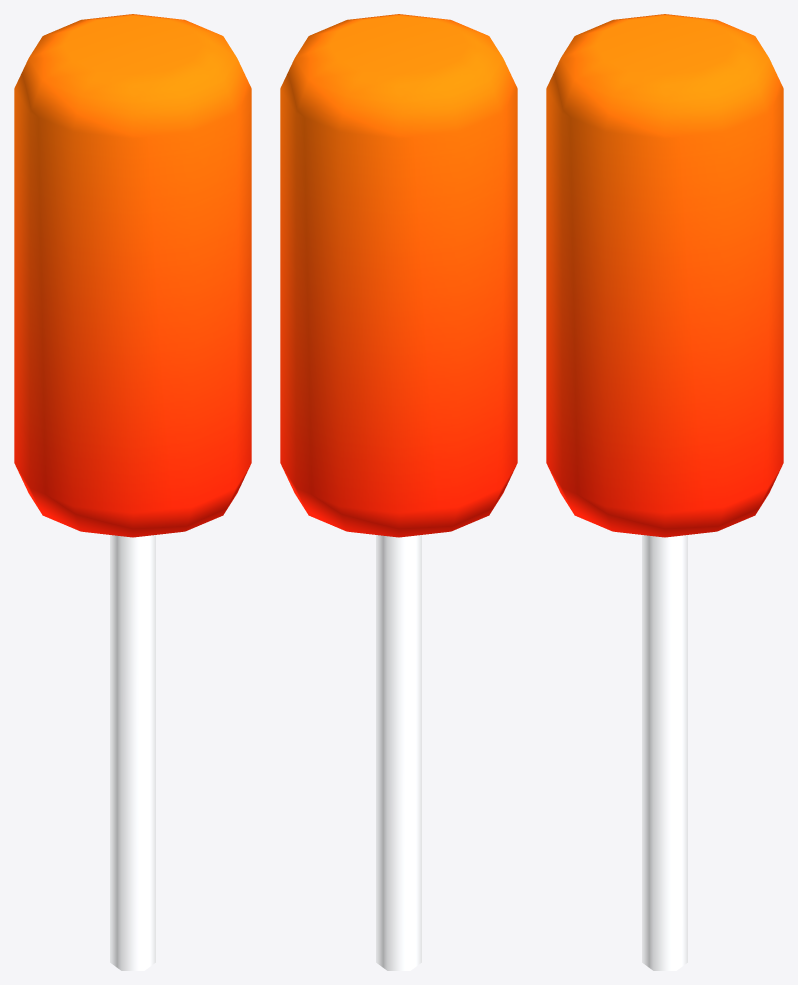
Rendered from Lollipop_14.glb.
3 renders of one model, left to right at view 1: azimuth 30°, elevation 25°; view 2: azimuth 150°, elevation 25°; view 3: azimuth 270°, elevation 25°, orthographic.
Visible parts, largest first — view 1: Lollipop_14; view 2: Lollipop_14; view 3: Lollipop_14.
Part boxes in pixels (<box>): Lollipop_14: <box>14,14,251,970</box>; Lollipop_14: <box>280,14,517,970</box>; Lollipop_14: <box>546,14,783,970</box>.
Size of the model in its own units: 1.17 by 5 by 1.17.
Materials: 1 (1 with a texture image).
